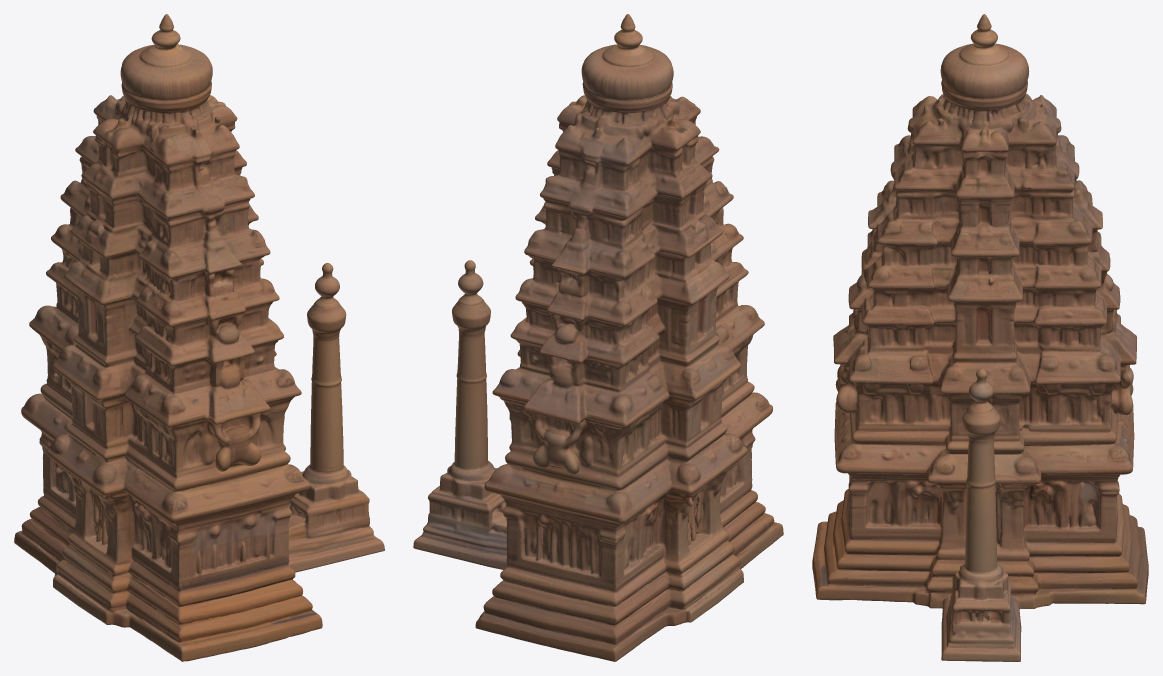
The model's file is ajanta_ellora.glb.
3 views of the same model, side by side, from view 1: azimuth 30°, elevation 25°; view 2: azimuth 150°, elevation 25°; view 3: azimuth 270°, elevation 25° (orthographic). The views are drawn at different scales.
Visible parts, largest first — view 1: tripo_node_f922e4fa-c27f-42c7-9ff8-43993d75b281; view 2: tripo_node_f922e4fa-c27f-42c7-9ff8-43993d75b281; view 3: tripo_node_f922e4fa-c27f-42c7-9ff8-43993d75b281.
Boxes of the visible parts, x1,y1,x2,y2 form: tripo_node_f922e4fa-c27f-42c7-9ff8-43993d75b281: (14, 14, 384, 661); tripo_node_f922e4fa-c27f-42c7-9ff8-43993d75b281: (413, 14, 783, 661); tripo_node_f922e4fa-c27f-42c7-9ff8-43993d75b281: (812, 14, 1148, 661).
Bounding box in the file's own units: 0.5298 × 1 × 0.5478.
1 material, 1 textured.
